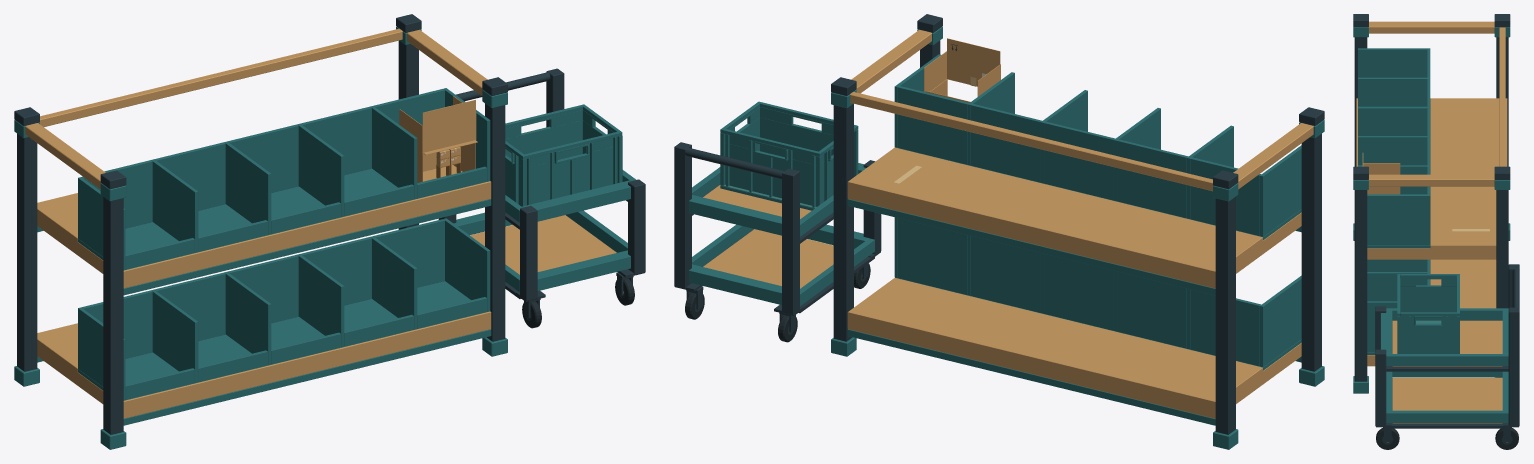
Rendered from picker-pick-source-fixture.glb.
3 views of the same model, side by side, from view 1: azimuth 30°, elevation 25°; view 2: azimuth 150°, elevation 25°; view 3: azimuth 270°, elevation 25° (orthographic). The views are drawn at different scales.
Visible parts, largest first — view 1: picker-pick-source-fixture__batch_21, picker-pick-source-fixture__batch_22, picker-pick-source-fixture__batch_23, picker-pick-source-fixture__batch_18, picker-pick-source-fixture__batch_20, picker-pick-source-fixture__batch_01, picker-pick-source-fixture__batch_00, picker-pick-source-fixture__batch_44, picker-pick-source-fixture__batch_41; view 2: picker-pick-source-fixture__batch_21, picker-pick-source-fixture__batch_22, picker-pick-source-fixture__batch_23, picker-pick-source-fixture__batch_18, picker-pick-source-fixture__batch_01, picker-pick-source-fixture__batch_20, picker-pick-source-fixture__batch_00, picker-pick-source-fixture__batch_44, picker-pick-source-fixture__batch_47; view 3: picker-pick-source-fixture__batch_22, picker-pick-source-fixture__batch_21, picker-pick-source-fixture__batch_23, picker-pick-source-fixture__batch_20, picker-pick-source-fixture__batch_00, picker-pick-source-fixture__batch_18, picker-pick-source-fixture__batch_01, picker-pick-source-fixture__batch_46, picker-pick-source-fixture__batch_08, picker-pick-source-fixture__batch_16, picker-pick-source-fixture__batch_47.
Boxes of the visible parts, x1,y1,x2,y2 form: picker-pick-source-fixture__batch_21: [14, 26, 507, 449]; picker-pick-source-fixture__batch_22: [25, 28, 491, 418]; picker-pick-source-fixture__batch_23: [14, 14, 507, 434]; picker-pick-source-fixture__batch_18: [505, 104, 622, 206]; picker-pick-source-fixture__batch_20: [454, 170, 636, 291]; picker-pick-source-fixture__batch_01: [438, 68, 645, 301]; picker-pick-source-fixture__batch_00: [470, 215, 616, 274]; picker-pick-source-fixture__batch_44: [422, 100, 477, 154]; picker-pick-source-fixture__batch_41: [417, 143, 475, 182]; picker-pick-source-fixture__batch_21: [831, 26, 1324, 449]; picker-pick-source-fixture__batch_22: [847, 29, 1313, 418]; picker-pick-source-fixture__batch_23: [831, 14, 1324, 434]; picker-pick-source-fixture__batch_18: [720, 101, 858, 210]; picker-pick-source-fixture__batch_01: [674, 142, 881, 315]; picker-pick-source-fixture__batch_20: [689, 163, 874, 305]; picker-pick-source-fixture__batch_00: [703, 185, 833, 288]; picker-pick-source-fixture__batch_44: [947, 38, 1000, 86]; picker-pick-source-fixture__batch_47: [924, 51, 946, 91]; picker-pick-source-fixture__batch_22: [1356, 21, 1507, 366]; picker-pick-source-fixture__batch_21: [1353, 27, 1510, 393]; picker-pick-source-fixture__batch_23: [1353, 14, 1510, 381]; picker-pick-source-fixture__batch_20: [1380, 308, 1508, 422]; picker-pick-source-fixture__batch_00: [1392, 320, 1502, 423]; picker-pick-source-fixture__batch_18: [1397, 274, 1459, 353]; picker-pick-source-fixture__batch_01: [1375, 264, 1519, 428]; picker-pick-source-fixture__batch_46: [1363, 163, 1400, 174]; picker-pick-source-fixture__batch_08: [1376, 428, 1399, 449]; picker-pick-source-fixture__batch_16: [1495, 428, 1518, 449]; picker-pick-source-fixture__batch_47: [1367, 186, 1400, 194].
Bounding box in the file's own units: 3.31 × 1.55 × 1.06.
